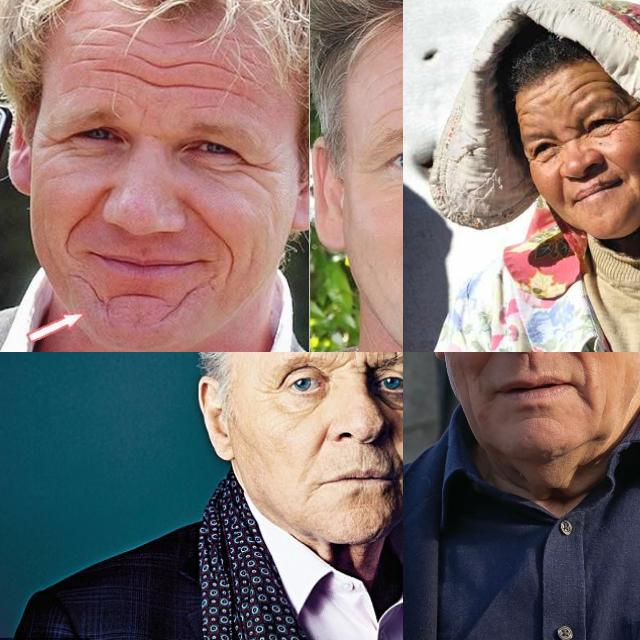chin: (106, 288, 164, 310), (70, 266, 100, 298), (175, 284, 203, 312)
crows_feet: (240, 156, 272, 188), (40, 132, 72, 158), (257, 372, 277, 403), (616, 105, 640, 127)
forehead: (123, 53, 191, 93), (203, 59, 245, 99), (70, 28, 108, 66), (566, 74, 604, 94), (168, 34, 206, 51), (530, 86, 558, 108)
frown_line: (133, 104, 153, 130), (328, 356, 348, 372), (560, 132, 580, 146)
gummy_smile: (185, 201, 229, 245), (69, 197, 103, 235), (387, 430, 403, 472), (313, 421, 332, 455), (475, 352, 503, 374), (605, 150, 627, 172), (556, 173, 568, 210), (551, 352, 584, 361)
masseter: (460, 372, 478, 414)
sad_smile: (573, 388, 599, 412), (220, 256, 238, 284), (60, 240, 78, 260)
